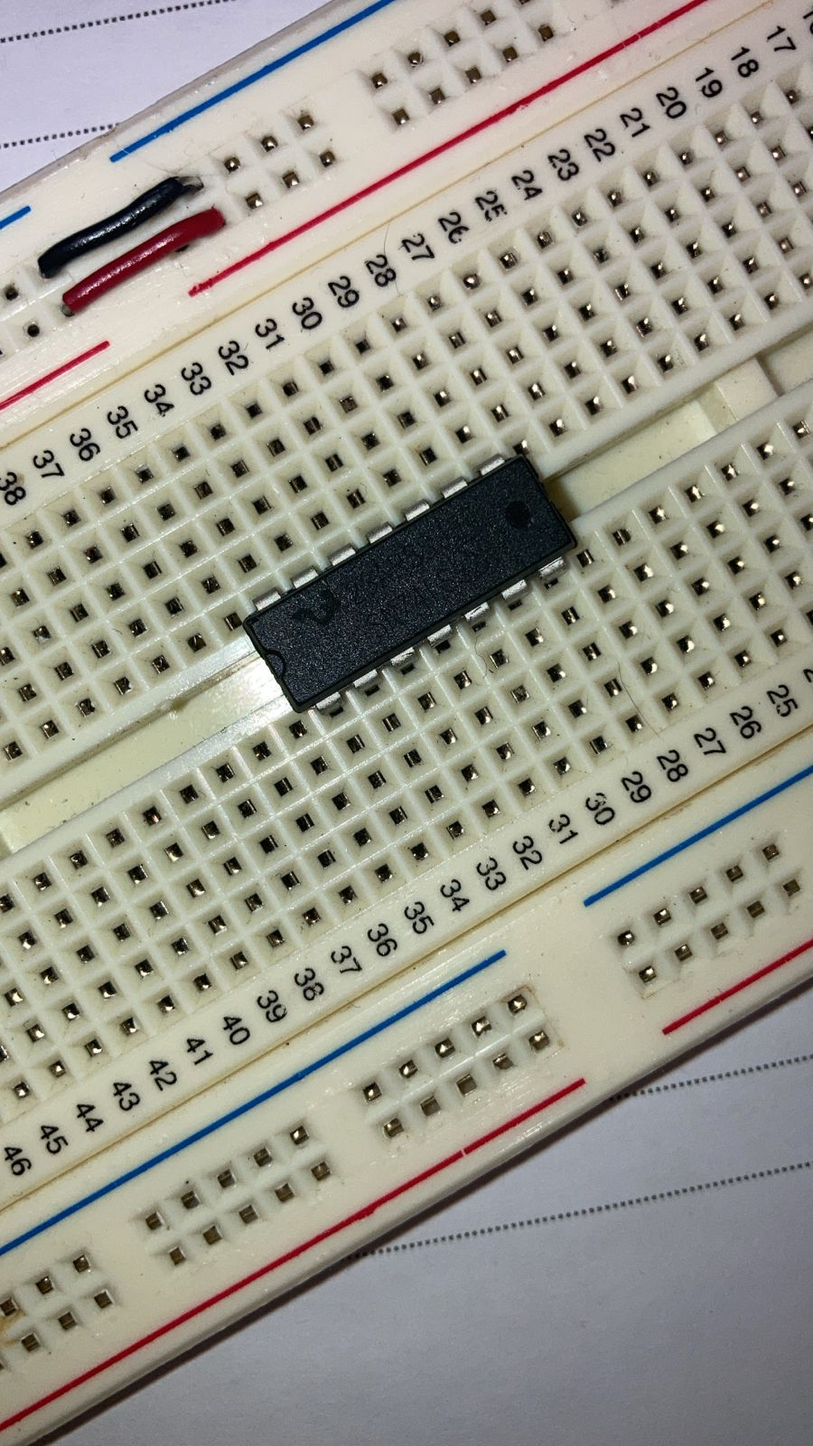IC: (226, 435, 597, 737)
notch: (257, 646, 290, 681)
